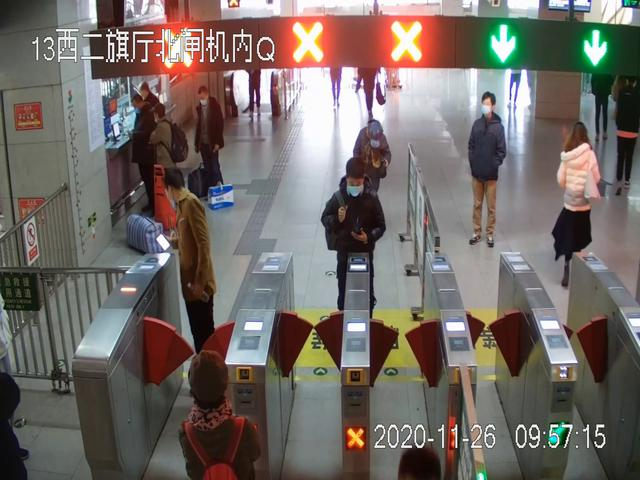person: (180, 350, 263, 480), (163, 166, 218, 362), (322, 157, 387, 315), (552, 122, 603, 288), (468, 89, 508, 248), (131, 92, 162, 217), (151, 101, 190, 189), (613, 76, 640, 195), (194, 85, 224, 186), (590, 72, 614, 144)
